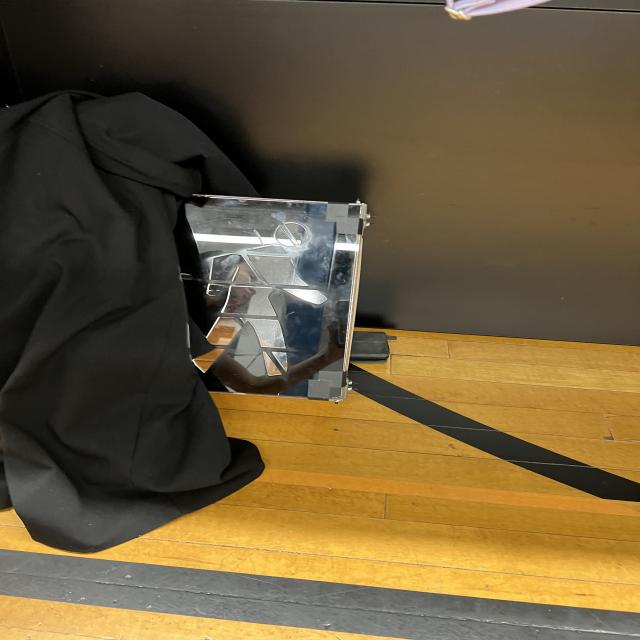go: (191, 202, 346, 396)
